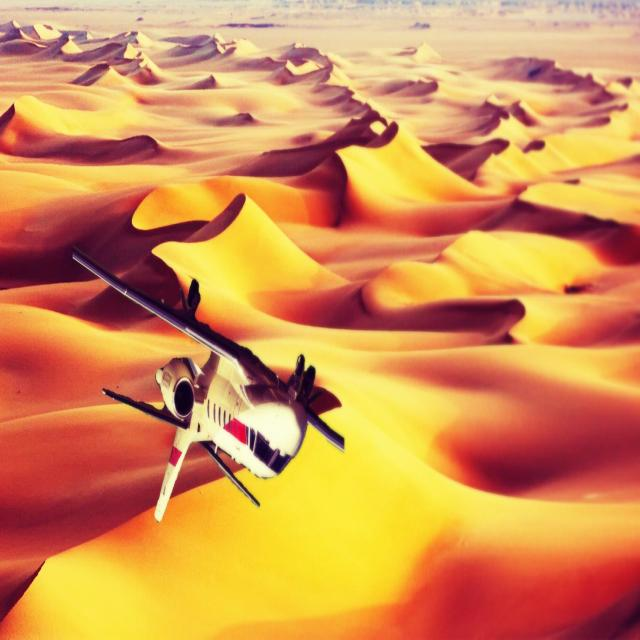airplane: (71, 243, 345, 523)
